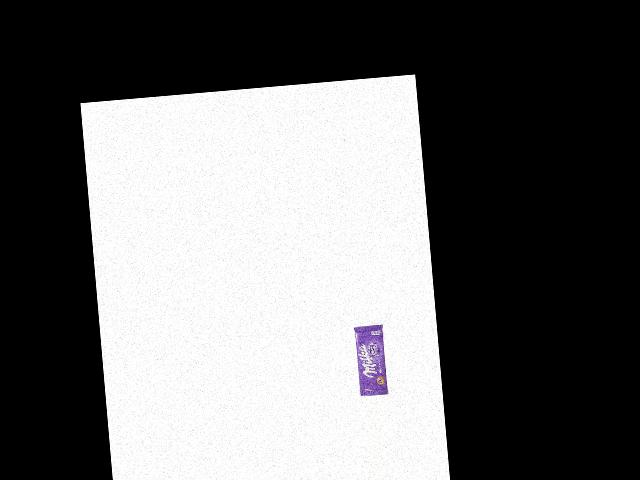chocolate: (352, 320, 392, 397)
